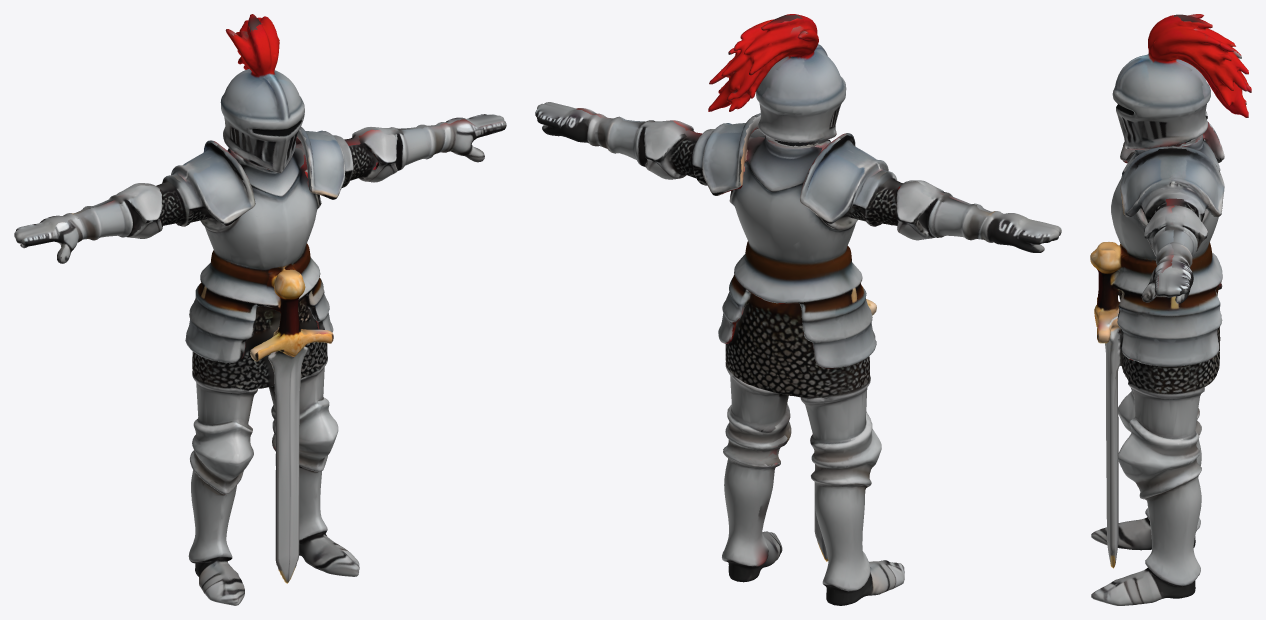
Rendered from knight.glb.
3 views of the same model, side by side, from view 1: azimuth 30°, elevation 25°; view 2: azimuth 150°, elevation 25°; view 3: azimuth 270°, elevation 25° (orthographic). The views are drawn at different scales.
Visible parts, largest first — view 1: texture_pbr_v128; view 2: texture_pbr_v128; view 3: texture_pbr_v128.
Boxes of the visible parts, x1=… form: texture_pbr_v128: x1=14, y1=14, x2=506, y2=605; texture_pbr_v128: x1=535, y1=14, x2=1061, y2=605; texture_pbr_v128: x1=1090, y1=14, x2=1251, y2=605.
Size of the model in its own units: 1.08 by 1.14 by 0.3011.
Materials: 1 (1 with a texture image).
